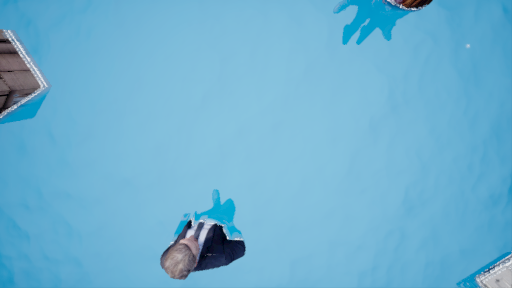person: (166, 184, 251, 280)
